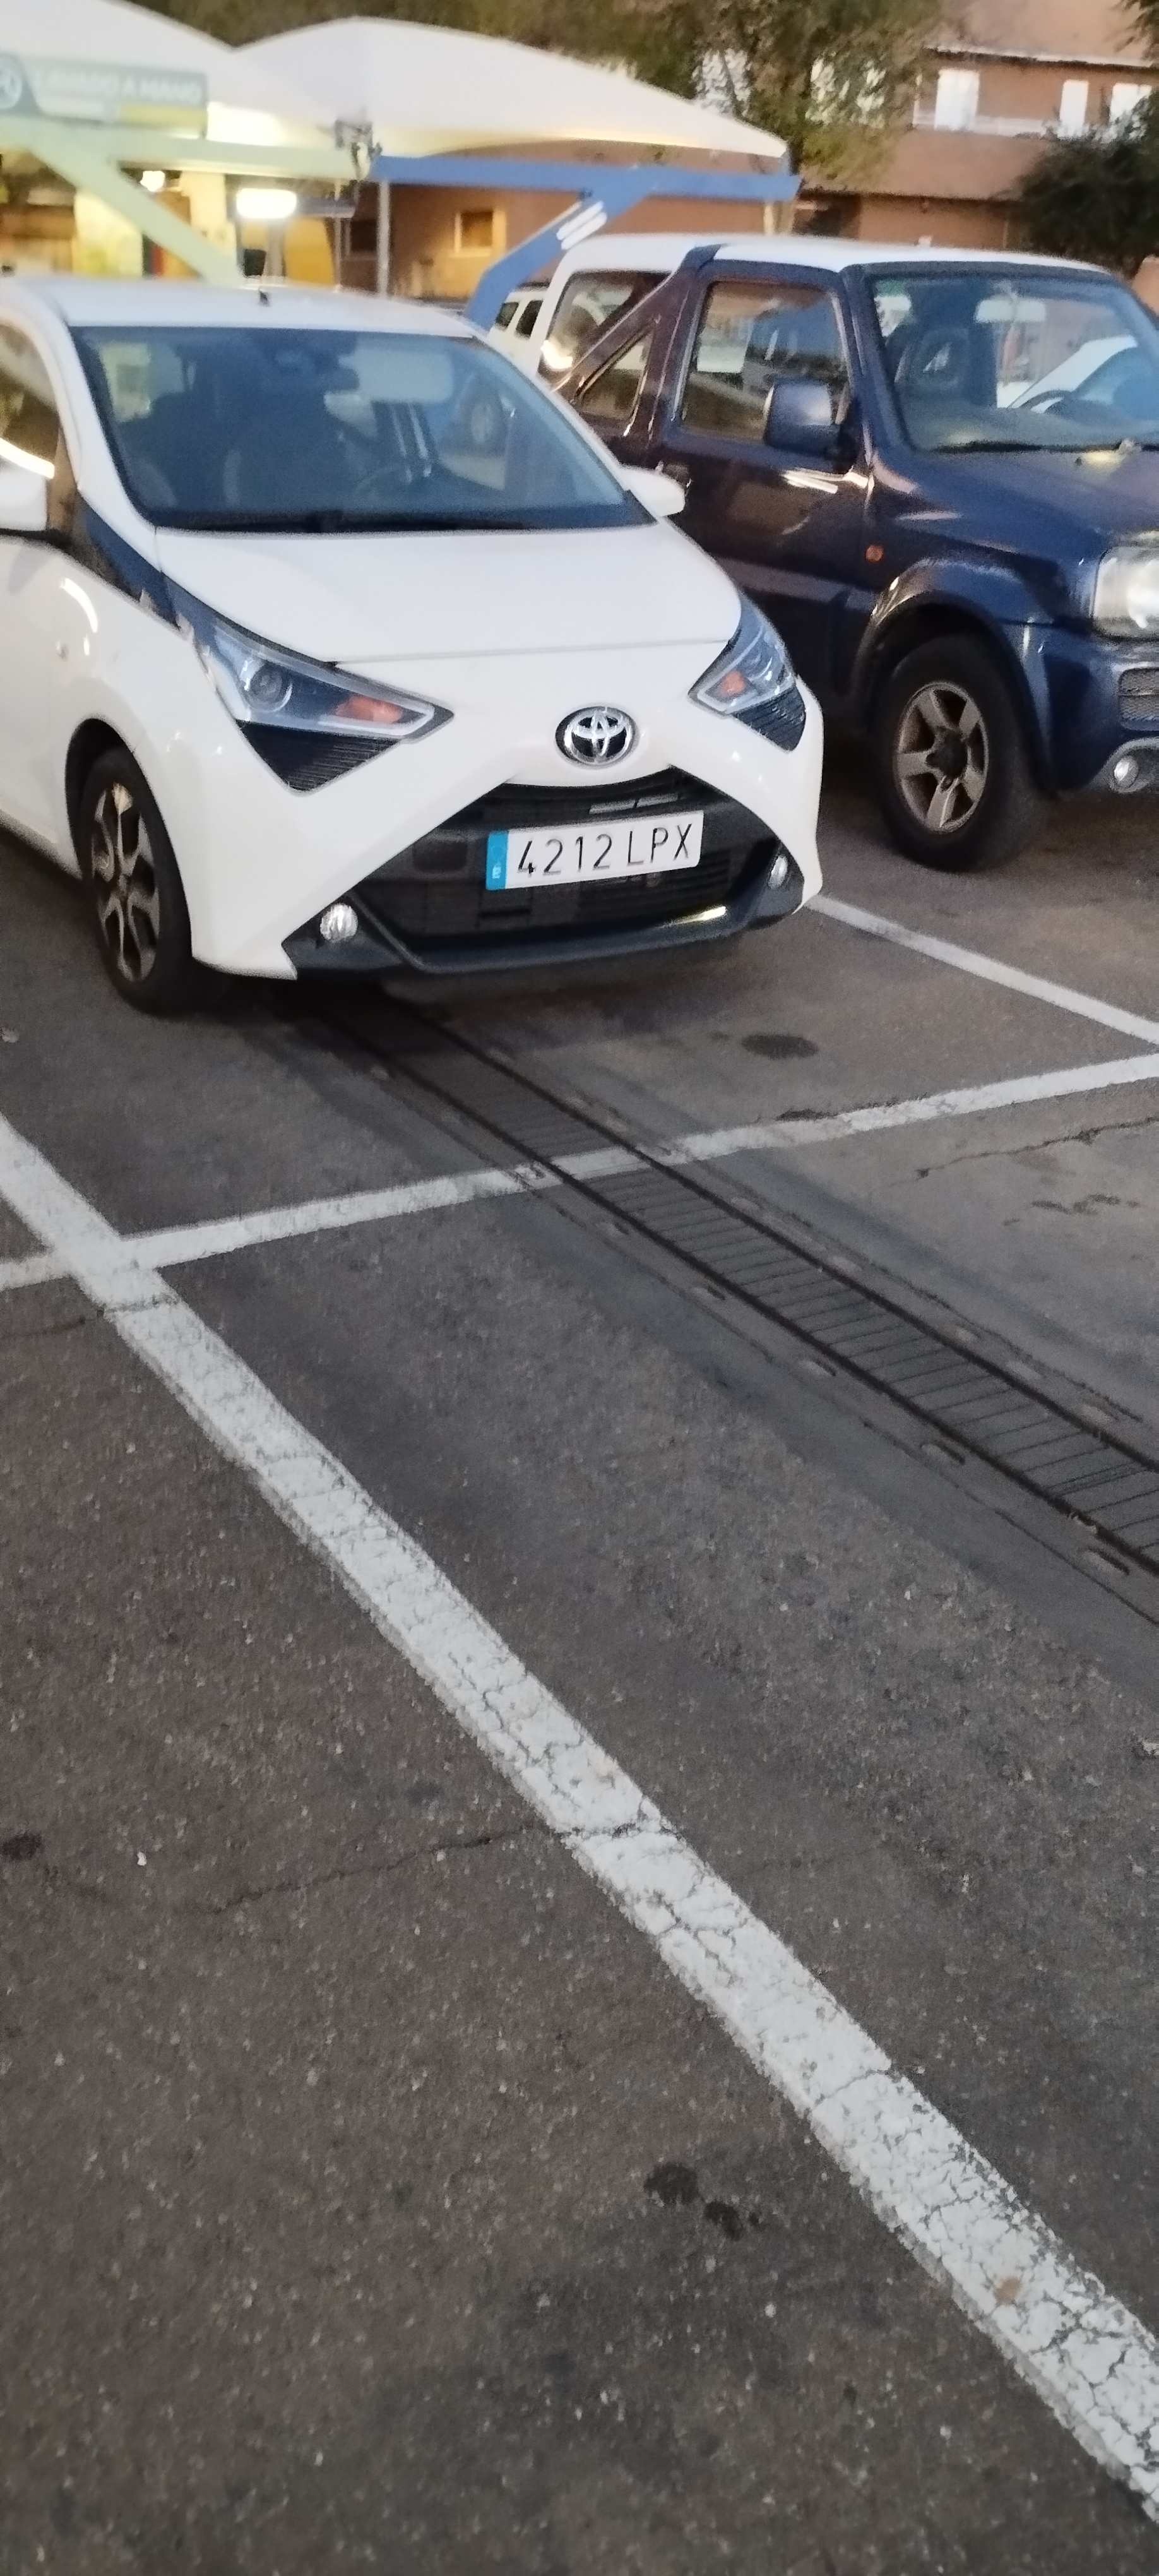Car: (1, 278, 824, 998)
Plate: (485, 833, 702, 888)
